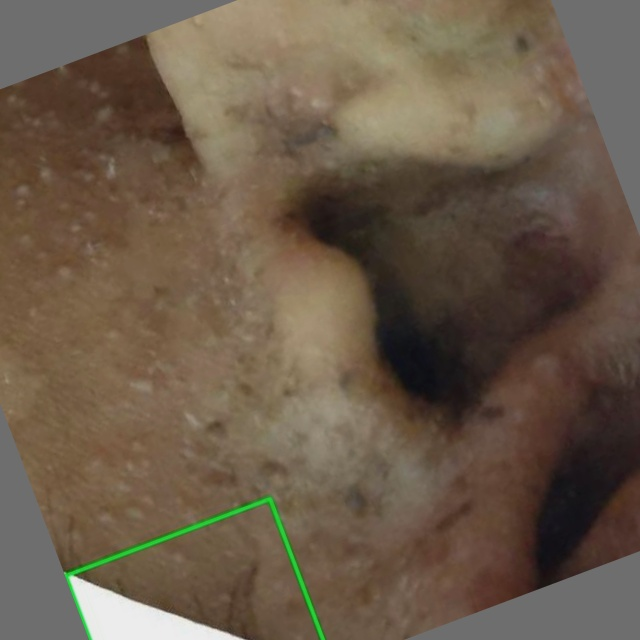Contact Dermatitis: (65, 498, 322, 639)
